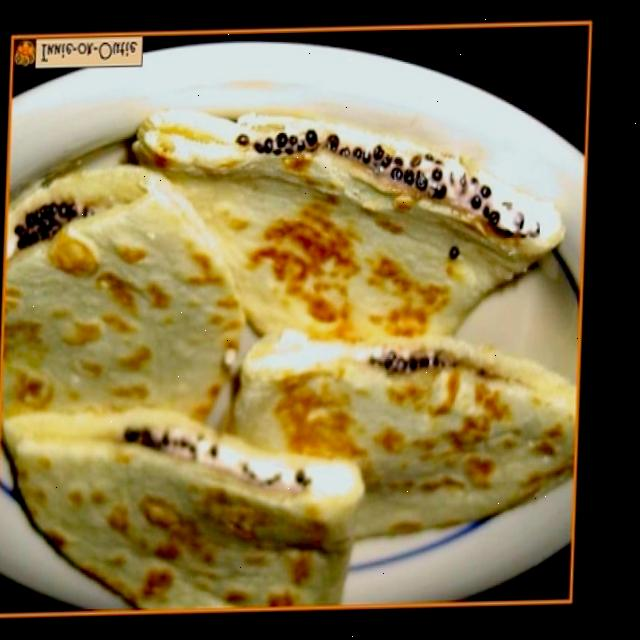面包点心: (0, 74, 597, 603)
